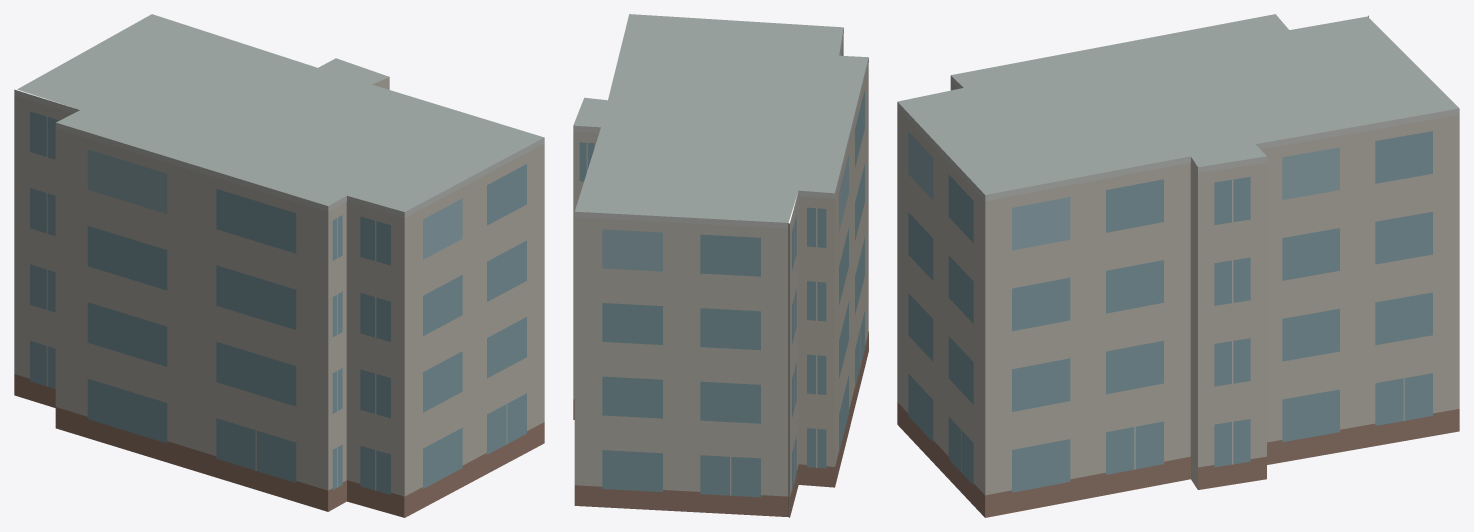
File: survey-upis-32582939.glb
3 renders of one model, left to right at view 1: azimuth 30°, elevation 25°; view 2: azimuth 150°, elevation 25°; view 3: azimuth 270°, elevation 25°, orthographic. The views are drawn at different scales.
Visible parts, largest first — view 1: survey-upis-32582939.tmp; view 2: survey-upis-32582939.tmp; view 3: survey-upis-32582939.tmp.
Part boxes in pixels (x1,y1,x2,y2): survey-upis-32582939.tmp: (14, 14, 544, 517); survey-upis-32582939.tmp: (573, 14, 868, 517); survey-upis-32582939.tmp: (897, 14, 1459, 517).
Size of the model in its own units: 15.34 by 12.75 by 20.13.
